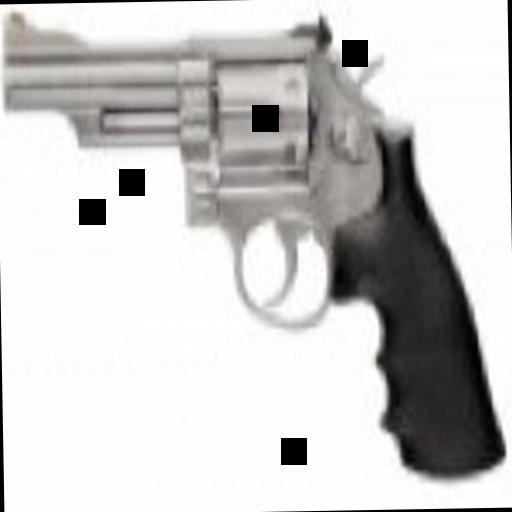Handgun: (0, 3, 494, 480)
